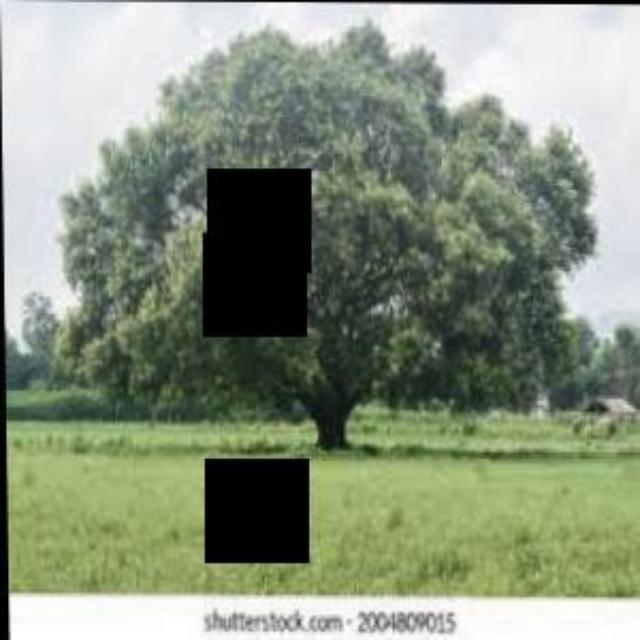tree: (49, 6, 601, 452)
